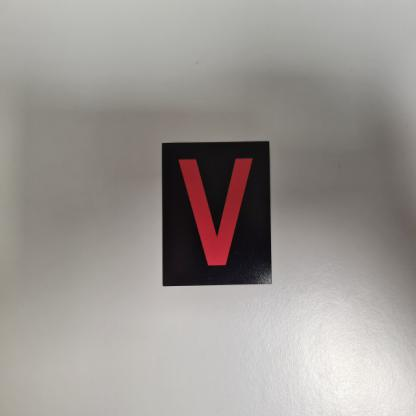v: (162, 142, 273, 286)
